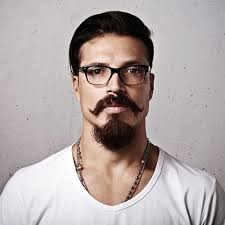b.y: (93, 94, 136, 147)
